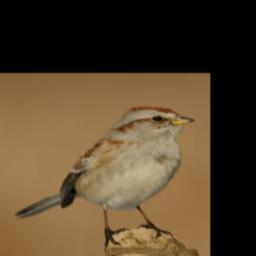Sparrow: (12, 104, 198, 249)
